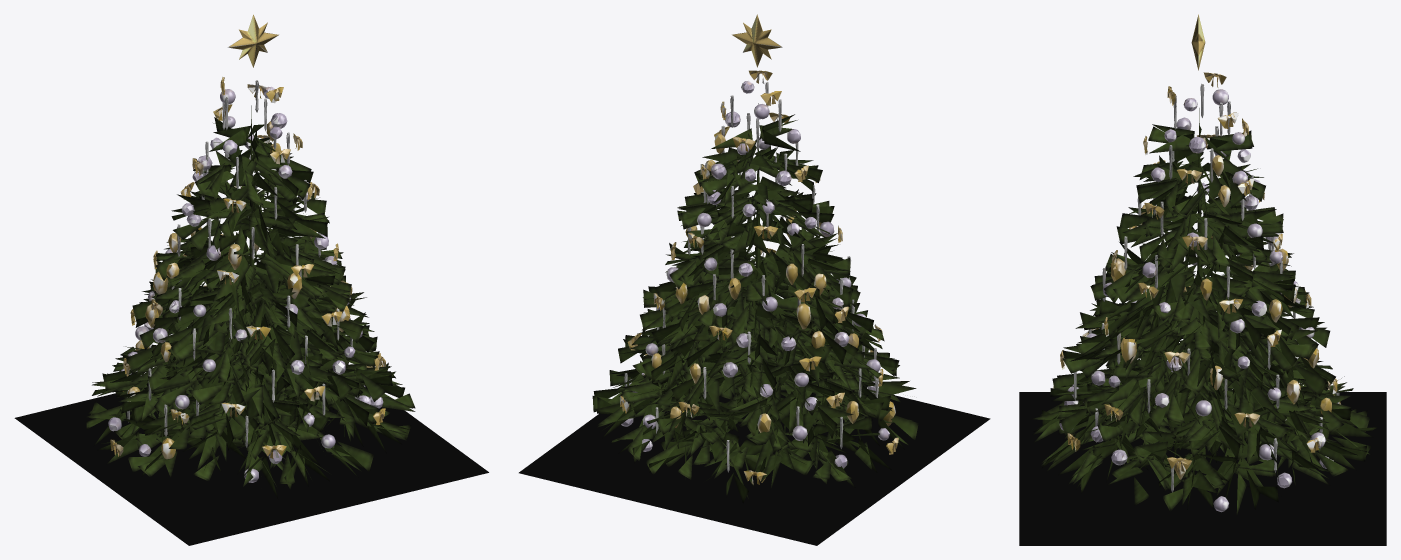
The model's file is raw_model.obj.
3 renders of one model, left to right at view 1: azimuth 30°, elevation 25°; view 2: azimuth 150°, elevation 25°; view 3: azimuth 270°, elevation 25°, orthographic. The views are drawn at different scales.
Visible parts, largest first — view 1: glass_001, shadow, solid_001, solid_006, solid_002, solid_005; view 2: glass_001, shadow, solid_001, solid_006, solid_002, solid_005; view 3: glass_001, shadow, solid_001, solid_006, solid_002.
Boxes of the visible parts, bbox=[...] form: glass_001: bbox=[85, 105, 415, 498]; shadow: bbox=[14, 373, 488, 545]; solid_001: bbox=[110, 77, 385, 459]; solid_006: bbox=[108, 86, 383, 482]; solid_002: bbox=[127, 80, 375, 447]; solid_005: bbox=[229, 14, 278, 67]; glass_001: bbox=[592, 103, 918, 503]; shadow: bbox=[519, 383, 990, 545]; solid_001: bbox=[620, 70, 898, 484]; solid_006: bbox=[621, 81, 889, 468]; solid_002: bbox=[624, 82, 878, 472]; solid_005: bbox=[732, 14, 781, 67]; glass_001: bbox=[1032, 108, 1377, 515]; shadow: bbox=[1019, 392, 1386, 545]; solid_001: bbox=[1053, 72, 1340, 479]; solid_006: bbox=[1059, 89, 1333, 512]; solid_002: bbox=[1073, 83, 1339, 492].
Size of the model in its own units: 2.26 by 3.12 by 2.28.
1 material, 1 textured.
